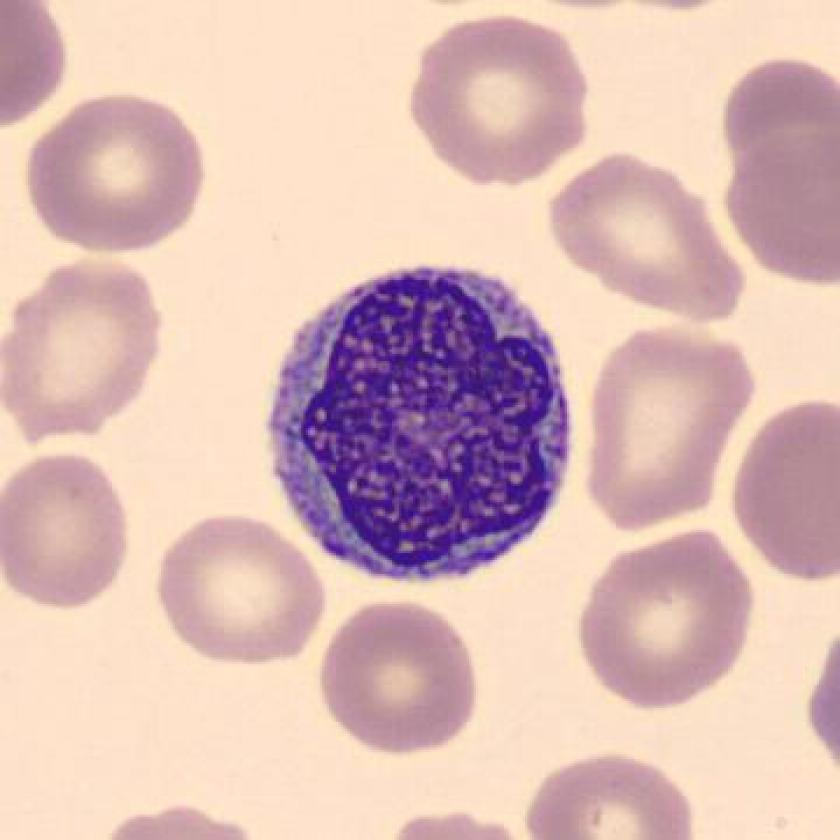monocyte: (253, 244, 591, 610)
